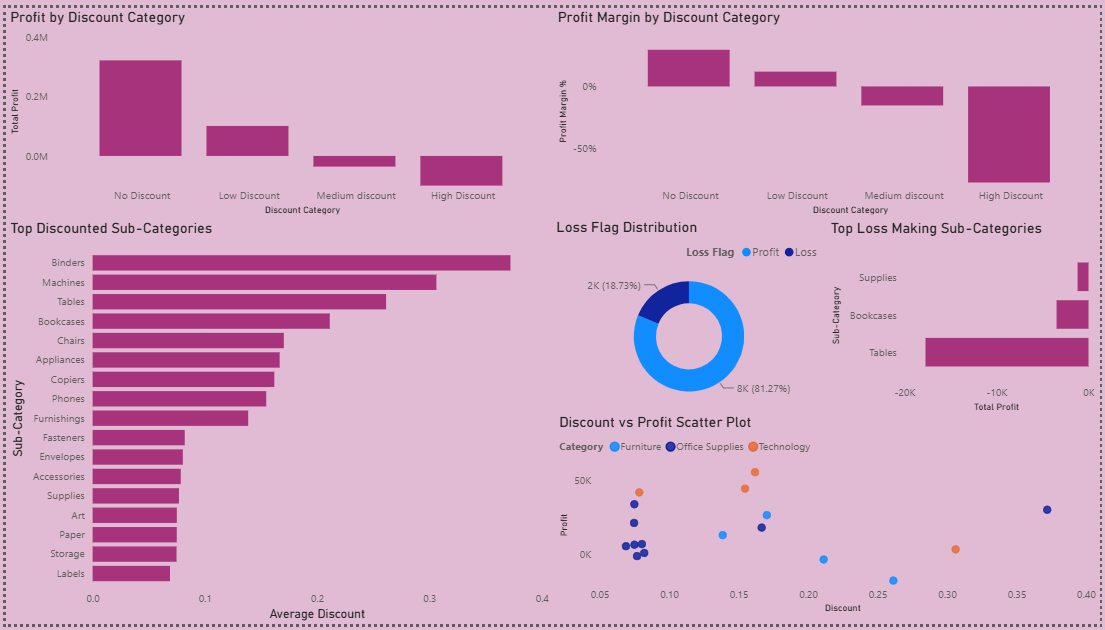

What the dashboard file says about the page in this screenshot:
{"tool":"powerbi","page":{"name":"Risk & Loss Analysis","canvas":[1280,720],"ordinal":2},"visuals":[{"type":"scatterChart","title":"Discount vs Profit Scatter Plot","fields":{"X":["Avg(cleaned_superstore.Discount)"],"Category":["cleaned_superstore.Sub-Category"],"Series":["cleaned_superstore.Category"],"Y":["cleaned_superstore.Total Profit"]},"box":[642.6,474,637.8,238.6],"z":0},{"type":"clusteredColumnChart","title":"Profit by Discount Category","fields":{"Category":["cleaned_superstore.Discount Category"],"Y":["cleaned_superstore.Total Profit"]},"box":[0,0,639.4,246.5],"z":1000},{"type":"clusteredColumnChart","title":"Profit Margin by Discount Category","fields":{"Category":["cleaned_superstore.Discount Category"],"Y":["cleaned_superstore.Profit Margin %"]},"box":[641,0,639.4,246.5],"z":2000},{"type":"donutChart","title":"Loss Flag Distribution","fields":{"Category":["cleaned_superstore.Loss Flag"],"Y":["cleaned_superstore.Total Orders"]},"box":[639.4,245,319.7,227.5],"z":3000},{"type":"clusteredBarChart","title":"Top Discounted Sub-Categories","fields":{"Category":["cleaned_superstore.Sub-Category"],"Y":["Avg(cleaned_superstore.Discount)"]},"box":[0,246.5,639.4,474],"z":4000},{"type":"clusteredBarChart","title":"Top Loss Making Sub-Categories","fields":{"Category":["cleaned_superstore.Sub-Category"],"Y":["cleaned_superstore.Total Profit"]},"box":[959.1,246.5,318.1,229],"z":5000}]}

Visuals, with their boxes in screenshot pixels (x1, y1, x2, y2), scaled from the page's 1280x720 canvas onto the 1105x630 screenshot:
"Discount vs Profit Scatter Plot" scatterChart: [555,415,1104,624]
"Profit by Discount Category" clusteredColumnChart: [0,0,552,216]
"Profit Margin by Discount Category" clusteredColumnChart: [553,0,1104,216]
"Loss Flag Distribution" donutChart: [552,214,828,413]
"Top Discounted Sub-Categories" clusteredBarChart: [0,216,552,629]
"Top Loss Making Sub-Categories" clusteredBarChart: [828,216,1103,416]
